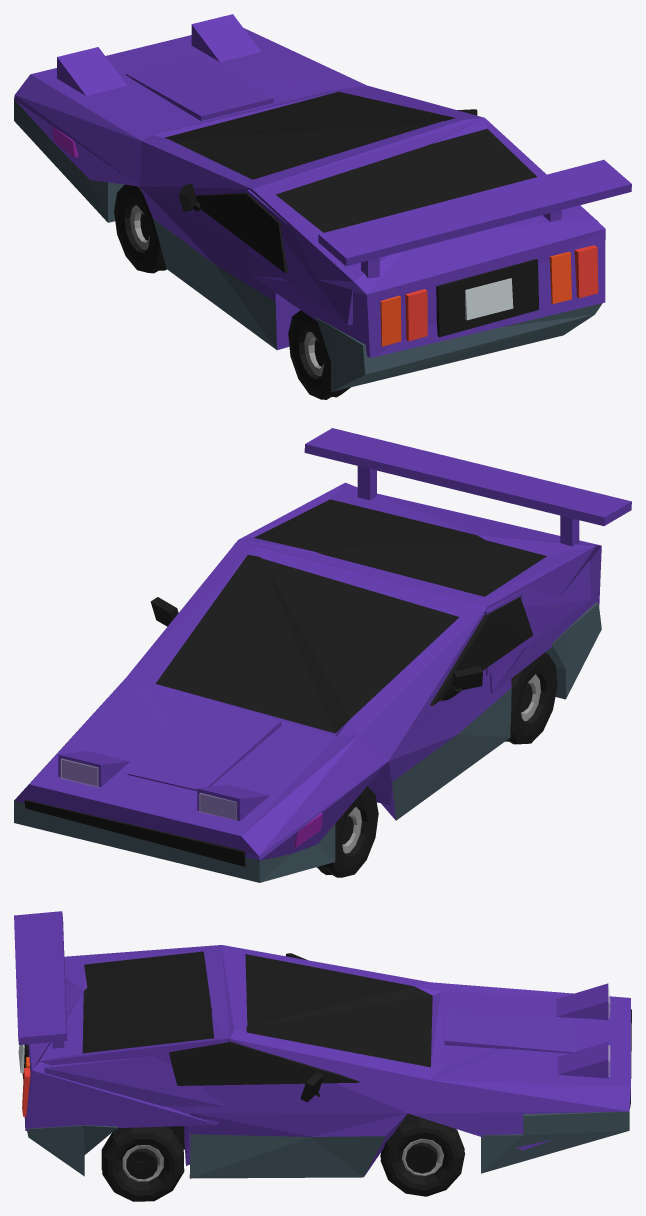
The model's file is purplecar.obj.
3 renders of one model, top to bottom at view 1: azimuth 30°, elevation 25°; view 2: azimuth 150°, elevation 25°; view 3: azimuth 270°, elevation 25°, orthographic. The views are drawn at different scales.
Parts seen in each view (by area): view 1: group1128419807, group988151536, group277242219, group721949634, group76841975, group45807266, group461244471, group2013031579, group1451283957, group227849536, group8389681, group1661375634 (+6 smaller); view 2: group1128419807, group988151536, group277242219, group76841975, group1451283957, group461244471, group2013031579, group811078233, group424329267, group721949634, group227849536, group8389681 (+3 smaller); view 3: group1128419807, group988151536, group277242219, group1956411283, group1451283957, group2013031579, group76841975, group1216388560, group1220012367, group721949634, group8389681, group1661375634 (+4 smaller).
Boxes of the visible parts, left/top/right/bottom form: group1128419807: left=14, top=28, right=484, bottom=350; group988151536: left=252, top=118, right=605, bottom=357; group277242219: left=318, top=159, right=631, bottom=266; group721949634: left=316, top=303, right=602, bottom=391; group76841975: left=126, top=55, right=273, bottom=120; group45807266: left=436, top=259, right=538, bottom=337; group461244471: left=195, top=193, right=287, bottom=273; group2013031579: left=247, top=189, right=598, bottom=325; group1451283957: left=14, top=99, right=123, bottom=222; group227849536: left=114, top=184, right=164, bottom=273; group8389681: left=57, top=47, right=127, bottom=96; group1661375634: left=191, top=14, right=260, bottom=61; group1128419807: left=14, top=540, right=511, bottom=860; group988151536: left=238, top=482, right=601, bottom=693; group277242219: left=304, top=428, right=631, bottom=525; group76841975: left=128, top=702, right=281, bottom=790; group1451283957: left=14, top=800, right=335, bottom=882; group461244471: left=429, top=595, right=532, bottom=705; group2013031579: left=485, top=560, right=590, bottom=675; group811078233: left=24, top=799, right=245, bottom=866; group424329267: left=508, top=652, right=557, bottom=744; group721949634: left=545, top=602, right=601, bottom=699; group227849536: left=323, top=786, right=378, bottom=877; group8389681: left=197, top=784, right=269, bottom=820; group1128419807: left=184, top=945, right=630, bottom=1178; group988151536: left=24, top=945, right=229, bottom=1130; group277242219: left=14, top=911, right=67, bottom=1044; group1956411283: left=169, top=1041, right=359, bottom=1085; group1451283957: left=481, top=1111, right=629, bottom=1173; group2013031579: left=44, top=1056, right=226, bottom=1106; group76841975: left=444, top=1010, right=579, bottom=1053; group1216388560: left=102, top=1127, right=184, bottom=1201; group1220012367: left=380, top=1117, right=464, bottom=1196; group721949634: left=26, top=1125, right=117, bottom=1176; group8389681: left=556, top=983, right=608, bottom=1020; group1661375634: left=557, top=1042, right=608, bottom=1078.
Bounding box in the file's own units: 0.7857 × 0.4904 × 1.53.
